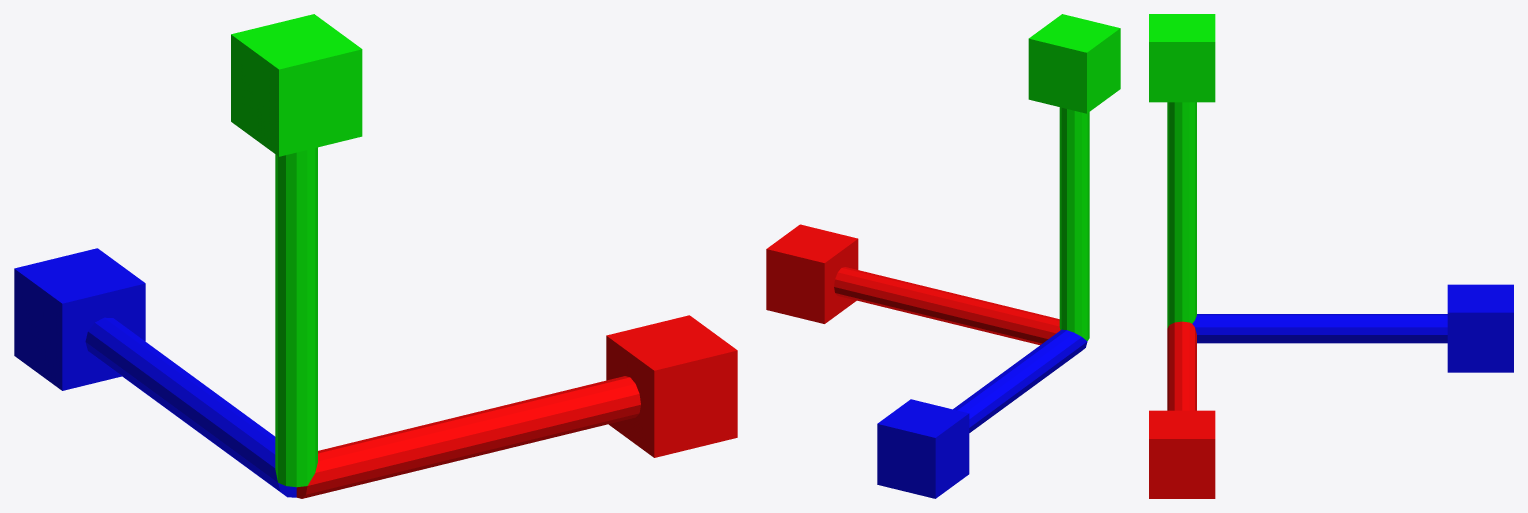
File: scale-pointer.gltf
3 views of the same model, side by side, from view 1: azimuth 30°, elevation 25°; view 2: azimuth 150°, elevation 25°; view 3: azimuth 270°, elevation 25° (orthographic). The views are drawn at different scales.
Visible parts, largest first — view 1: CubeY, CylinderX, CylinderY, CubeX, CubeZ, CylinderZ; view 2: CubeY, CubeZ, CubeX, CylinderY, CylinderX, CylinderZ; view 3: CylinderZ, CylinderY, CubeZ, CubeY, CubeX, CylinderX.
Part boxes in pixels (left/top/right/bottom): CubeY: left=231, top=14, right=362, bottom=156; CylinderX: left=296, top=376, right=640, bottom=498; CylinderY: left=275, top=147, right=317, bottom=487; CubeX: left=606, top=315, right=737, bottom=457; CubeZ: left=14, top=248, right=145, bottom=390; CylinderZ: left=85, top=317, right=296, bottom=497; CubeY: left=1028, top=14, right=1120, bottom=113; CubeZ: left=877, top=399, right=969, bottom=498; CubeX: left=766, top=224, right=858, bottom=323; CylinderY: left=1059, top=107, right=1089, bottom=340; CylinderX: left=834, top=267, right=1060, bottom=344; CylinderZ: left=953, top=329, right=1087, bottom=432; CylinderZ: left=1192, top=314, right=1447, bottom=343; CylinderY: left=1167, top=102, right=1196, bottom=328; CubeZ: left=1447, top=284, right=1513, bottom=372; CubeY: left=1149, top=14, right=1215, bottom=102; CubeX: left=1149, top=410, right=1215, bottom=498; CylinderX: left=1167, top=321, right=1196, bottom=410.
Bounding box in the file's own units: 1.1 × 1.1 × 1.1.
